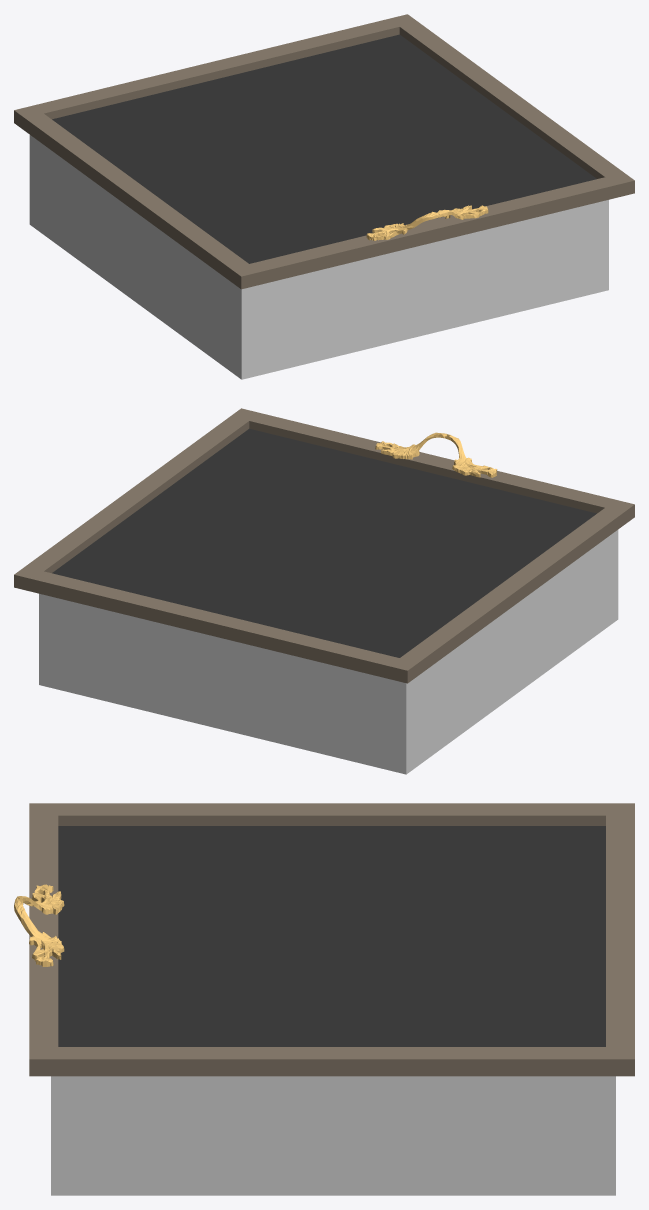
Rendered from floor door.fbx.
3 renders of one model, top to bottom at view 1: azimuth 30°, elevation 25°; view 2: azimuth 150°, elevation 25°; view 3: azimuth 270°, elevation 25°, orthographic. The views are drawn at different scales.
Parts seen in each view (by area): view 1: Cube, Cube_1; view 2: Cube, Cube_1; view 3: Cube, Cube_1.
Boxes of the visible parts, x1=… form: Cube: x1=14, y1=14, x2=634, y2=289; Cube_1: x1=29, y1=135, x2=608, y2=379; Cube: x1=14, y1=408, x2=634, y2=683; Cube_1: x1=39, y1=530, x2=618, y2=774; Cube: x1=14, y1=803, x2=634, y2=1076; Cube_1: x1=51, y1=1076, x2=615, y2=1195.
Bounding box in the file's own units: 1 × 0.32 × 1.03.
